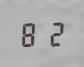eight: (19, 20, 41, 47)
two: (42, 19, 64, 46)
